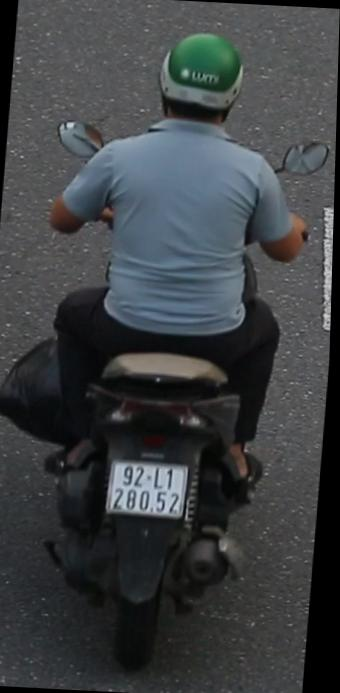LP: (102, 454, 200, 526)
helmet: (149, 18, 253, 128)
